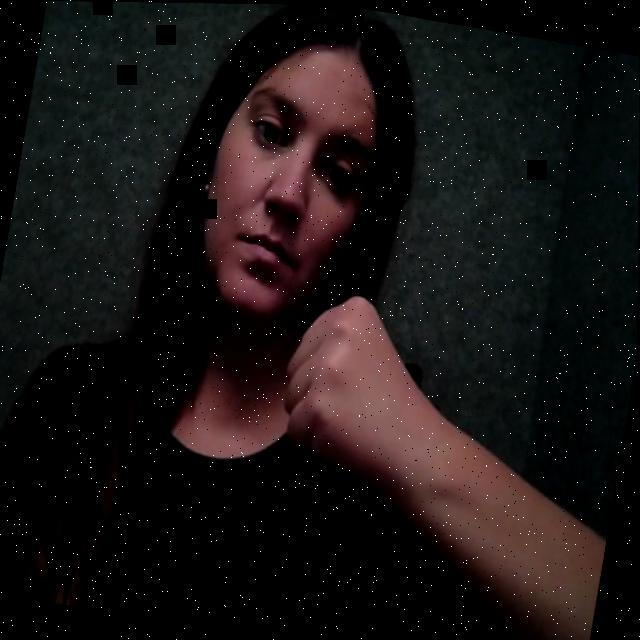Rock: (270, 275, 443, 502)
